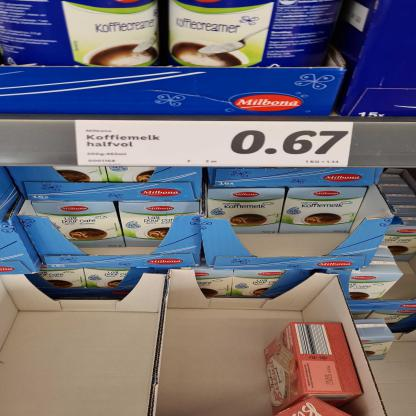prtg: (76, 121, 354, 168)
